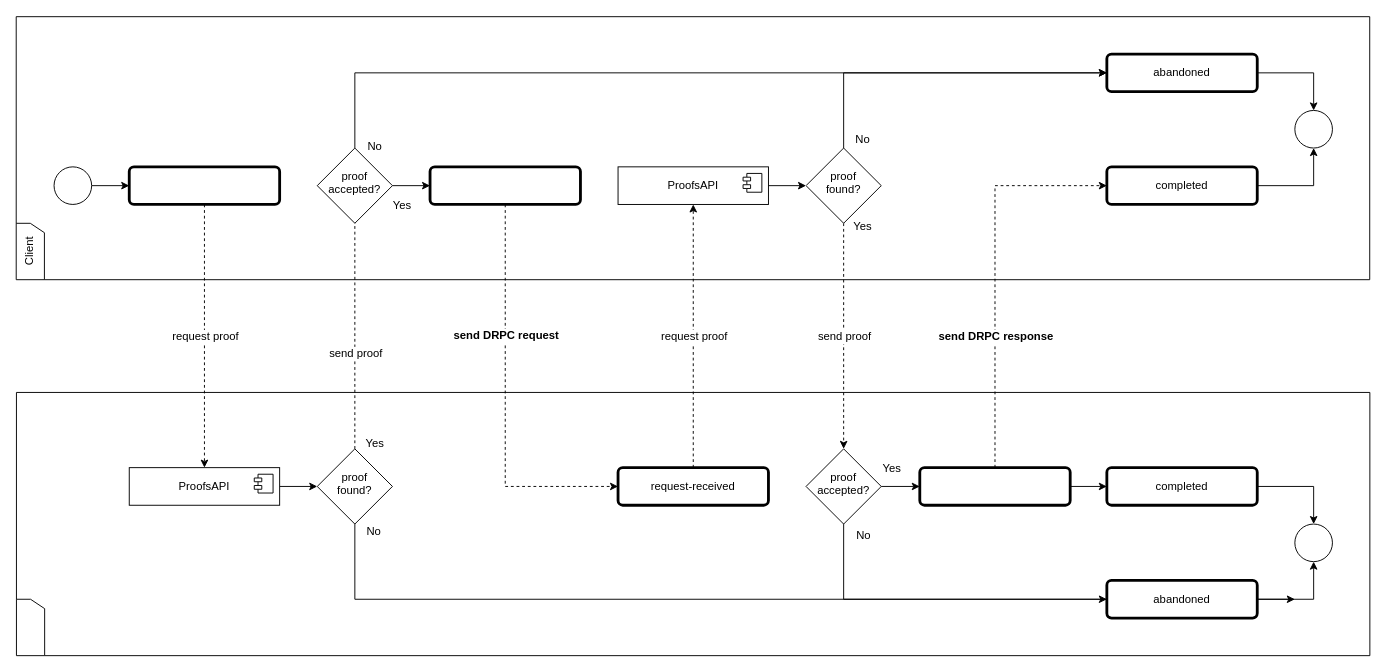
Image size: 1387x672. Some labels were removed from this diagram. Here are the shapes that lost their labels. From the top down, the centre of each, then its label:
At [204,185]: "server-proof-request-sent".
At [504,185]: "request-sent".
At [994,486]: "client-proof-received".
At [693,524]: "Server".
